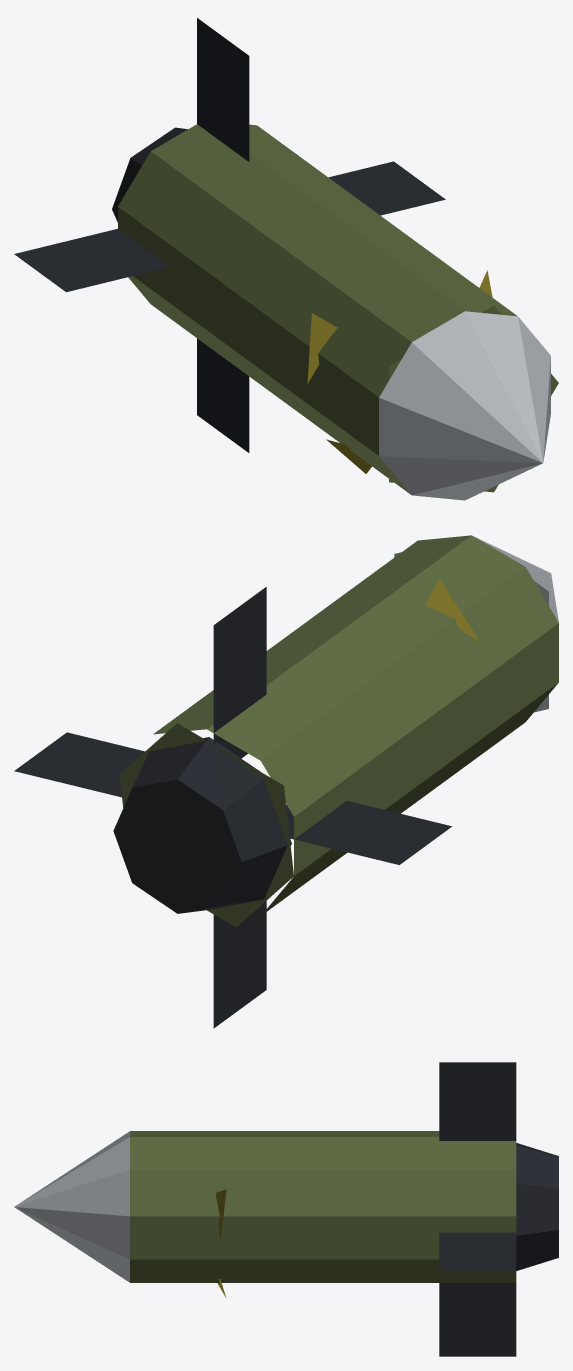
Rendered from rocket-fragmentation.lod.glb.
The picture shows the model from 3 angles, top to bottom: view 1: azimuth 30°, elevation 25°; view 2: azimuth 150°, elevation 25°; view 3: azimuth 270°, elevation 25°; orthographic projection. The views are drawn at different scales.
Visible parts, largest first — view 1: m; view 2: m; view 3: m.
Part boxes in pixels (x1,y1,x2,y2): m: (14,18,558,500); m: (14,535,558,1028); m: (14,1062,558,1356).
Size of the model in its own units: 0.0968 by 0.0968 by 0.1625.
